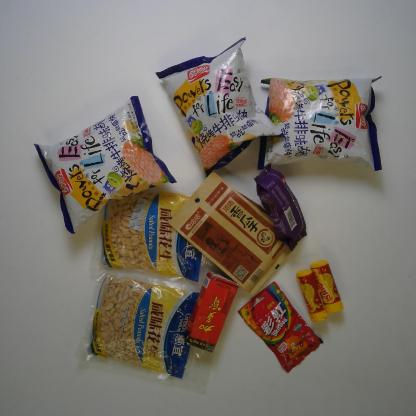Candy: (235, 279, 323, 373), (311, 258, 343, 313), (296, 268, 327, 324)
Dessert: (250, 163, 307, 252)
Dried Food: (168, 168, 294, 297)
Dried Fruit: (73, 265, 208, 382), (88, 182, 212, 286)
Drink: (185, 270, 239, 352)
Puffed Food: (32, 92, 178, 235), (153, 37, 286, 177), (256, 74, 380, 172)
